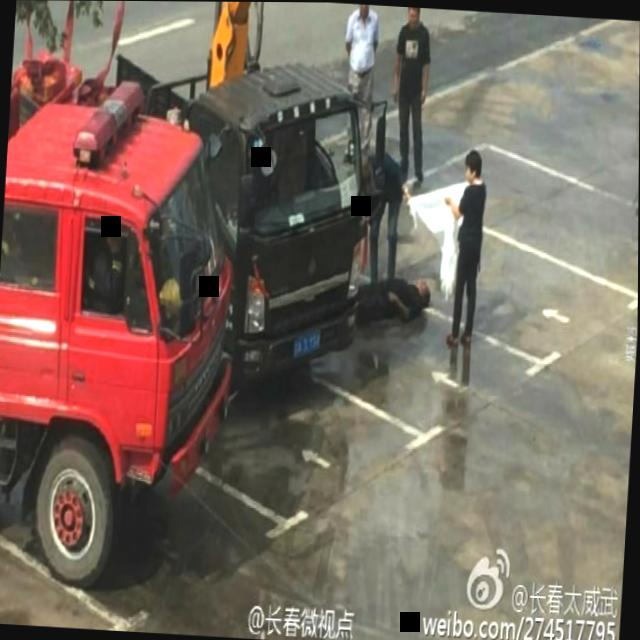Fall-Detected: (327, 254, 439, 342)
